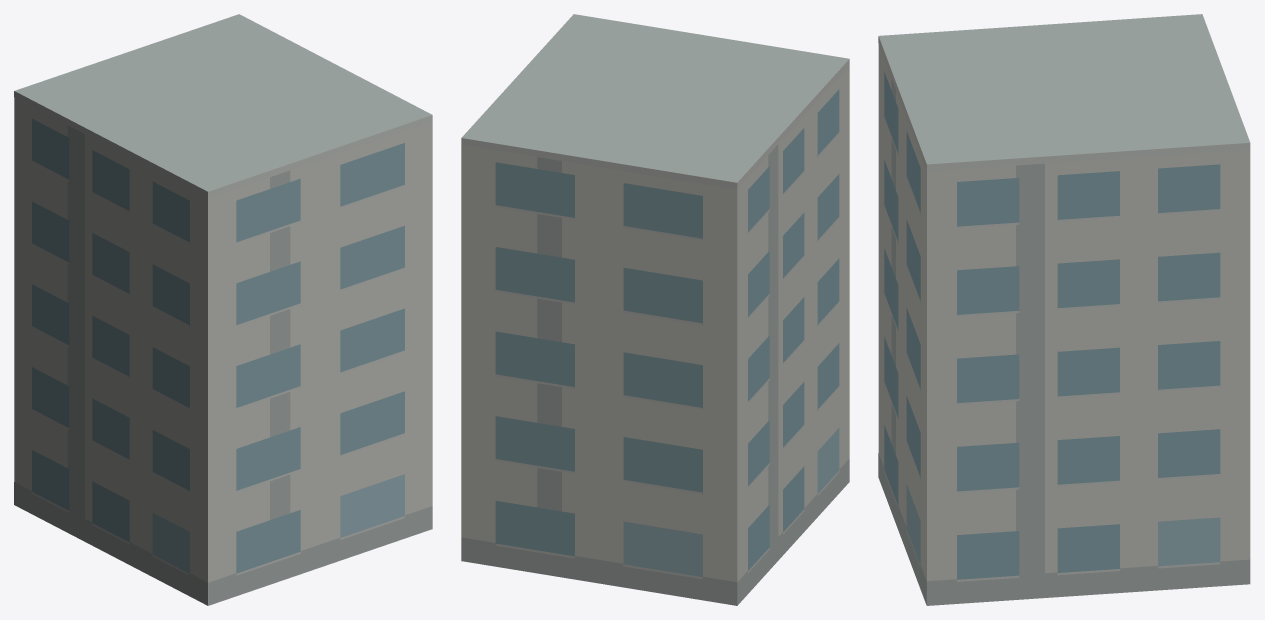
File: residential-c33d4b4d-977c-45fe-925b-b7df2348c7a9.glb
3 views of the same model, side by side, from view 1: azimuth 30°, elevation 25°; view 2: azimuth 150°, elevation 25°; view 3: azimuth 270°, elevation 25° (orthographic). The views are drawn at different scales.
Parts seen in each view (by area): view 1: residential-c33d4b4d-977c-45fe-925b-b7df2348c7a9.tmp; view 2: residential-c33d4b4d-977c-45fe-925b-b7df2348c7a9.tmp; view 3: residential-c33d4b4d-977c-45fe-925b-b7df2348c7a9.tmp.
Boxes of the visible parts, x1,y1,x2,y2 form: residential-c33d4b4d-977c-45fe-925b-b7df2348c7a9.tmp: (14, 14, 432, 605); residential-c33d4b4d-977c-45fe-925b-b7df2348c7a9.tmp: (461, 14, 849, 605); residential-c33d4b4d-977c-45fe-925b-b7df2348c7a9.tmp: (878, 14, 1250, 605).
Size of the model in its own units: 11.16 by 15.25 by 11.66.
